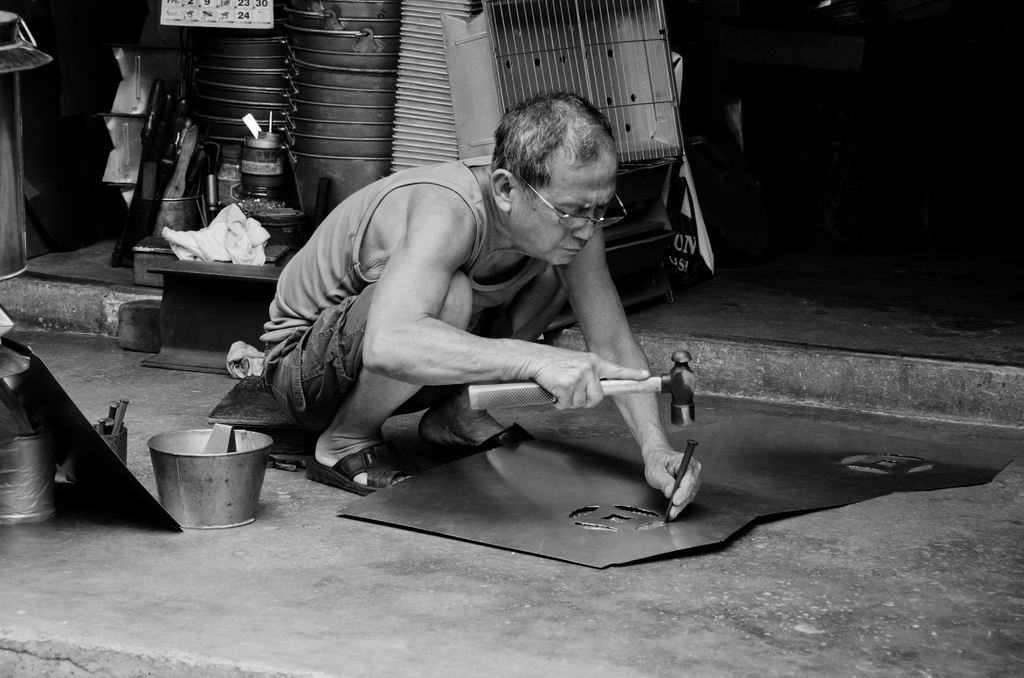Human_hand: (499, 342, 610, 419), (644, 446, 701, 522)
